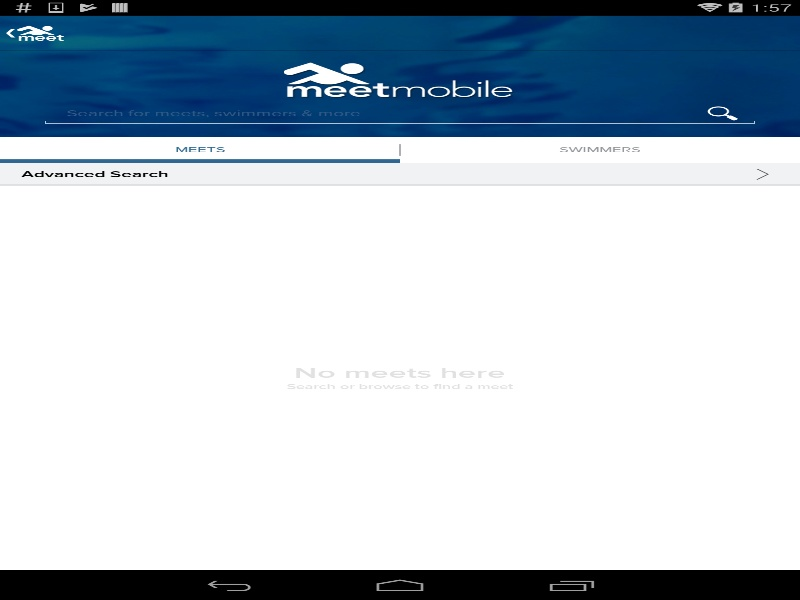Input: (45, 101, 754, 125)
